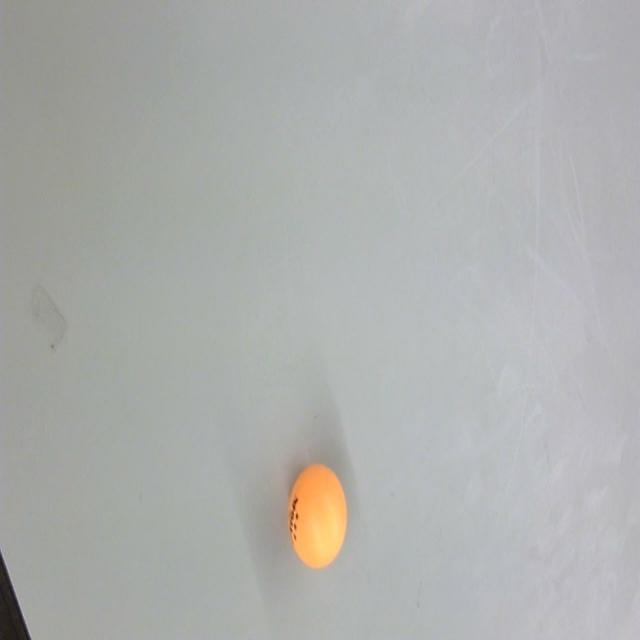ball: (288, 462, 349, 572)
